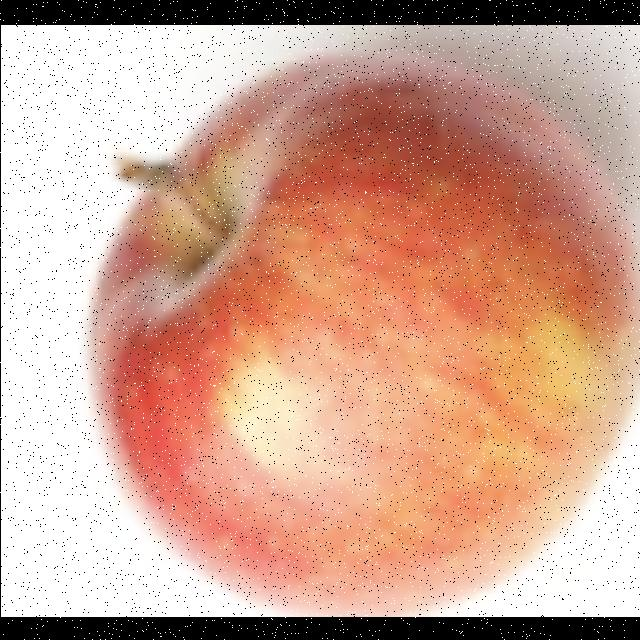Apel Segar: (88, 48, 640, 616)
